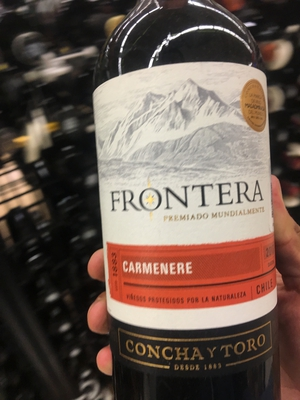frontera carmenere: (80, 30, 293, 396)
